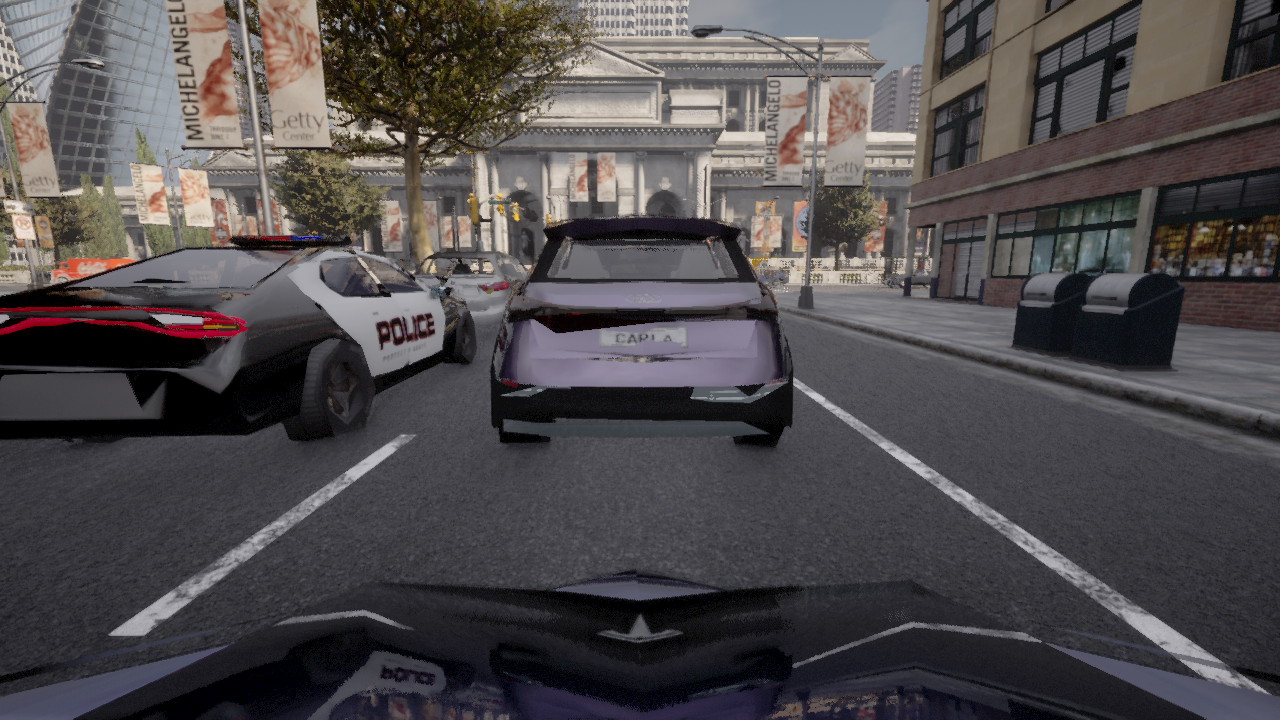cyclist: (0, 569, 1279, 719), (0, 235, 476, 442), (490, 213, 792, 446), (413, 251, 528, 324), (47, 257, 135, 287), (884, 270, 930, 288), (751, 268, 788, 288)
pedestrian: (764, 264, 773, 289), (399, 258, 410, 272)
